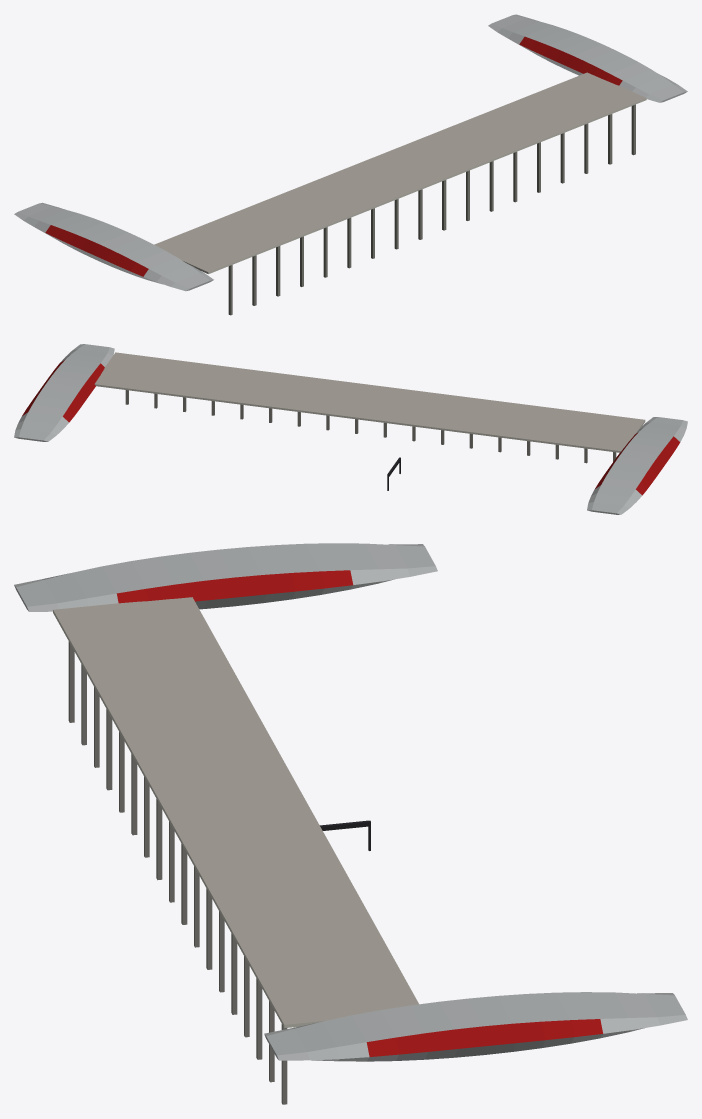
File: main_complex.glb
3 renders of one model, top to bottom at view 1: azimuth 30°, elevation 25°; view 2: azimuth 150°, elevation 25°; view 3: azimuth 270°, elevation 25°, orthographic. The views are drawn at different scales.
Visible parts, largest first — view 1: chunk_0_0; view 2: chunk_0_0; view 3: chunk_0_0.
Part boxes in pixels (bbox=[...]): chunk_0_0: bbox=[14, 14, 687, 315]; chunk_0_0: bbox=[14, 344, 687, 514]; chunk_0_0: bbox=[14, 543, 687, 1104].
Bounding box in the file's own units: 403 × 36.5 × 222.
